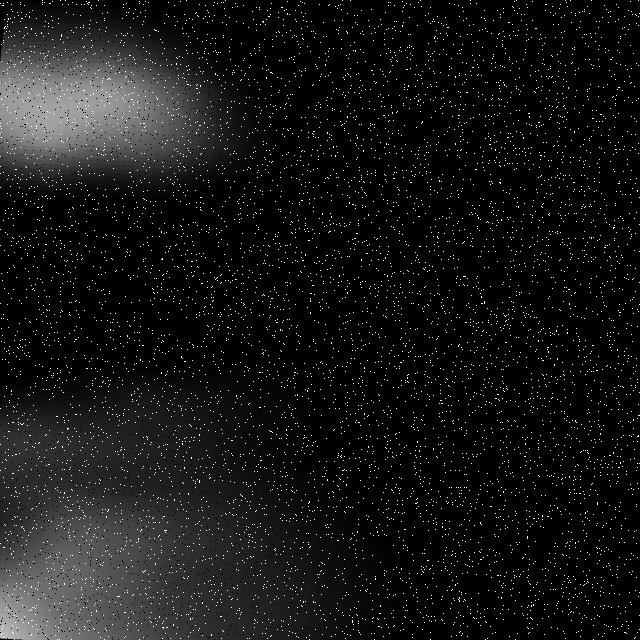person: (1, 341, 379, 640), (1, 13, 291, 241)
